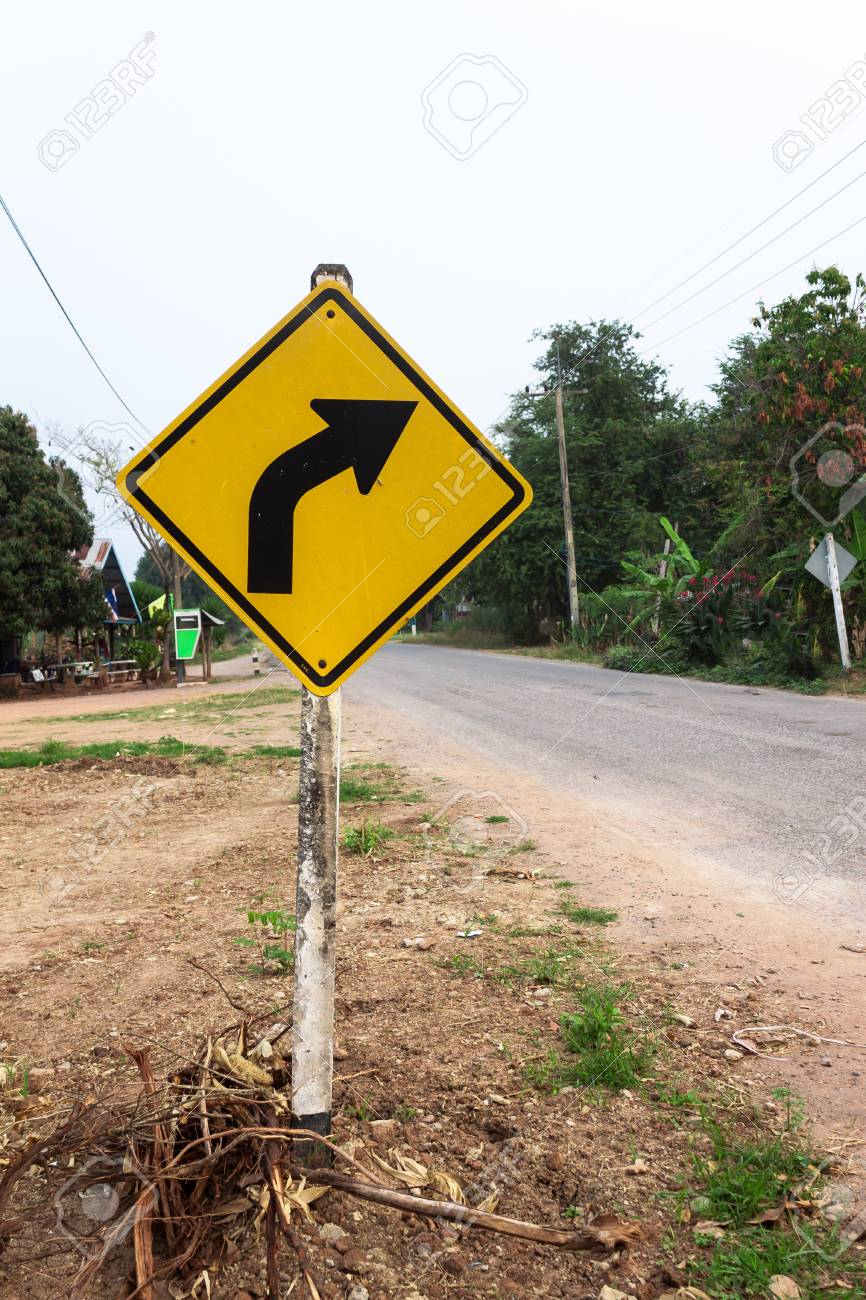right: (110, 272, 537, 703)
